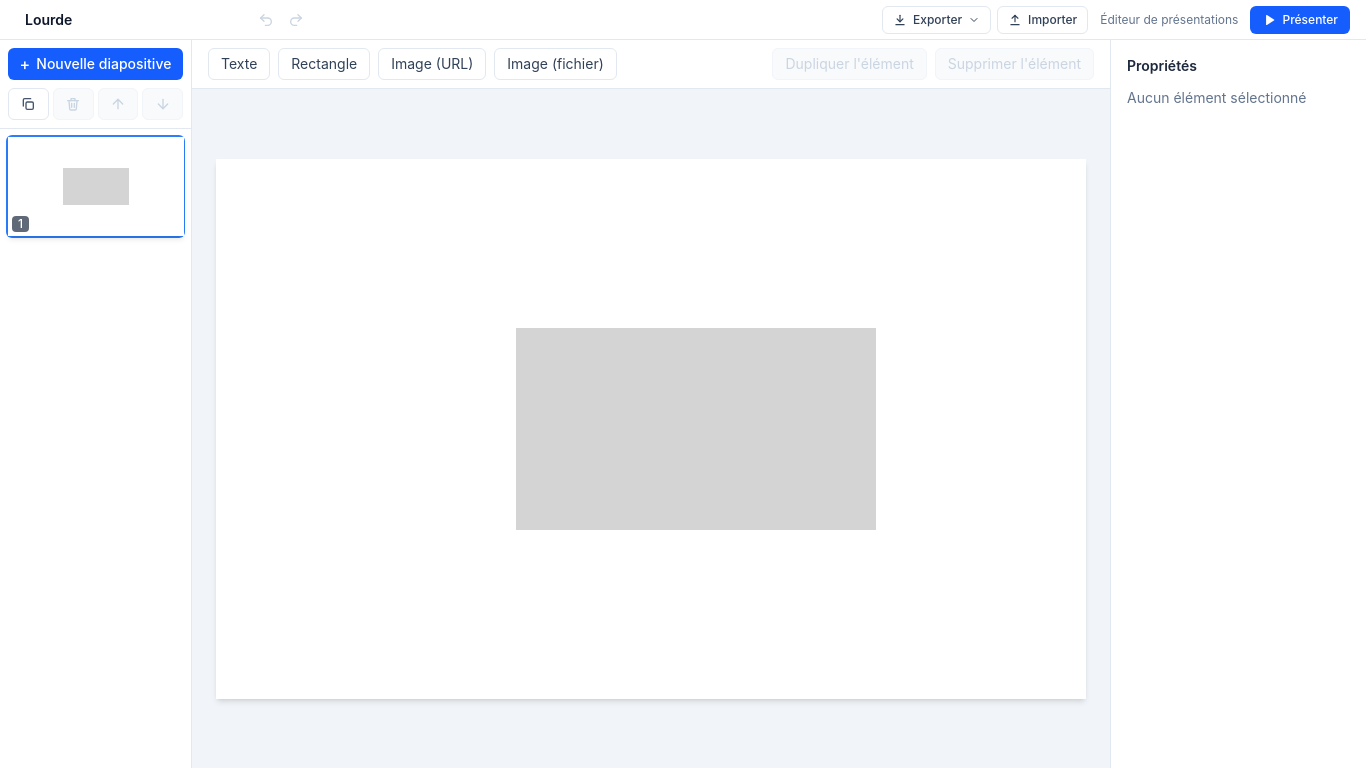
Test: EditorLayout : poids total des images › l'import d'une image par URL qui ferait dépasser le budget est refusé avec le message
Click the button "Image (URL)" at (432, 64), box [378, 48, 486, 80]
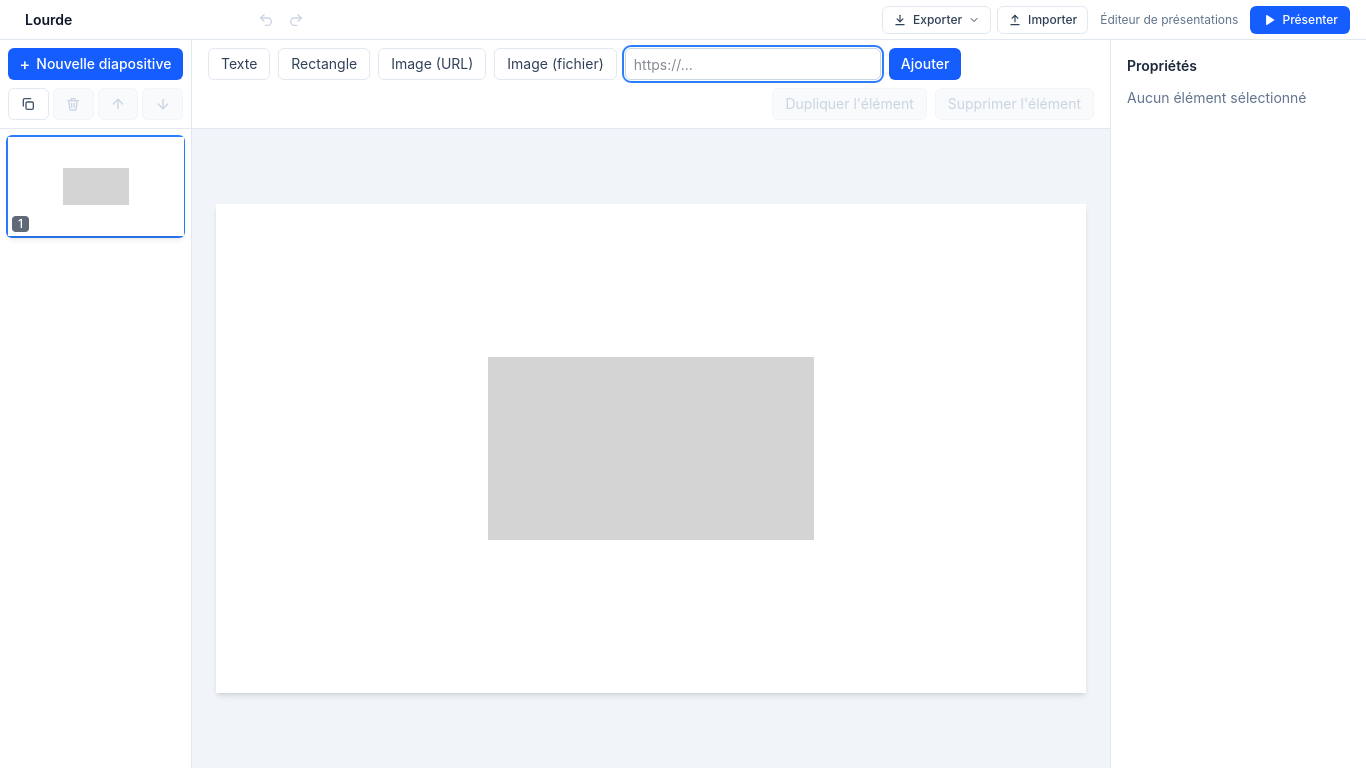
Type "https://exemple.fr/photo.png" into the field named "Adresse de l'image" at (753, 64), box [625, 48, 881, 80]
Then press Enter
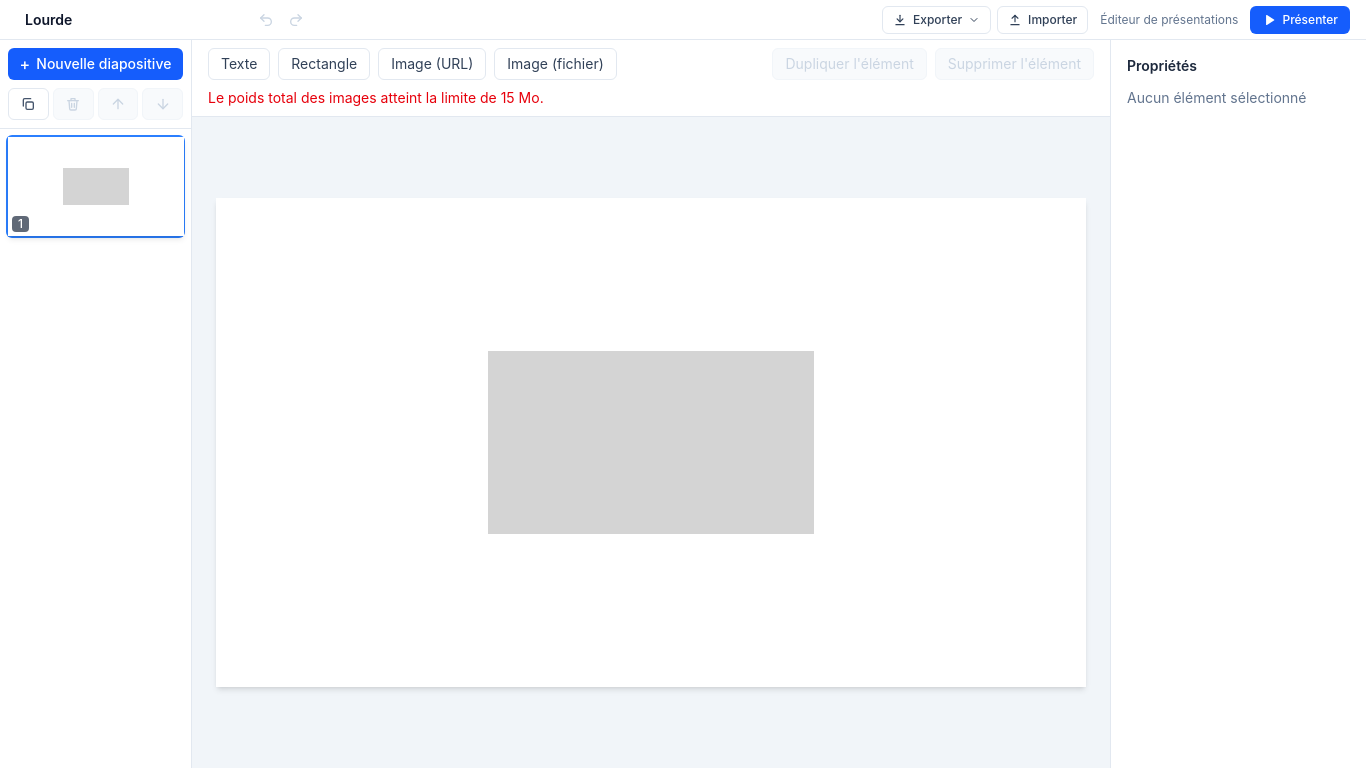
Check: the message reads "Le poids total des images atteint la limite de 15 Mo.", box [208, 89, 544, 106]
